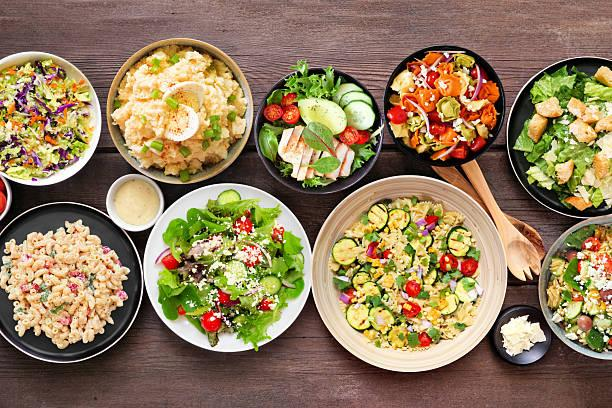Braised Crucian Carp: (311, 175, 504, 371), (141, 183, 306, 352), (2, 201, 143, 362), (105, 38, 248, 184), (253, 66, 377, 194), (384, 44, 503, 169), (2, 49, 103, 183)
